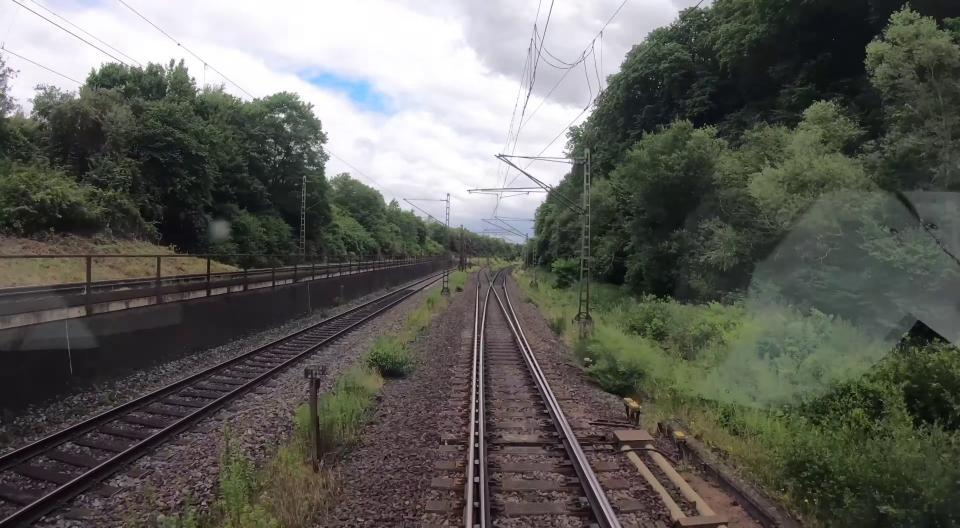Plant: (318, 290, 452, 453), (150, 422, 344, 528), (586, 354, 644, 397), (449, 271, 470, 299), (297, 405, 313, 436), (313, 308, 332, 318), (384, 278, 397, 292), (465, 266, 480, 274), (525, 297, 533, 303)
